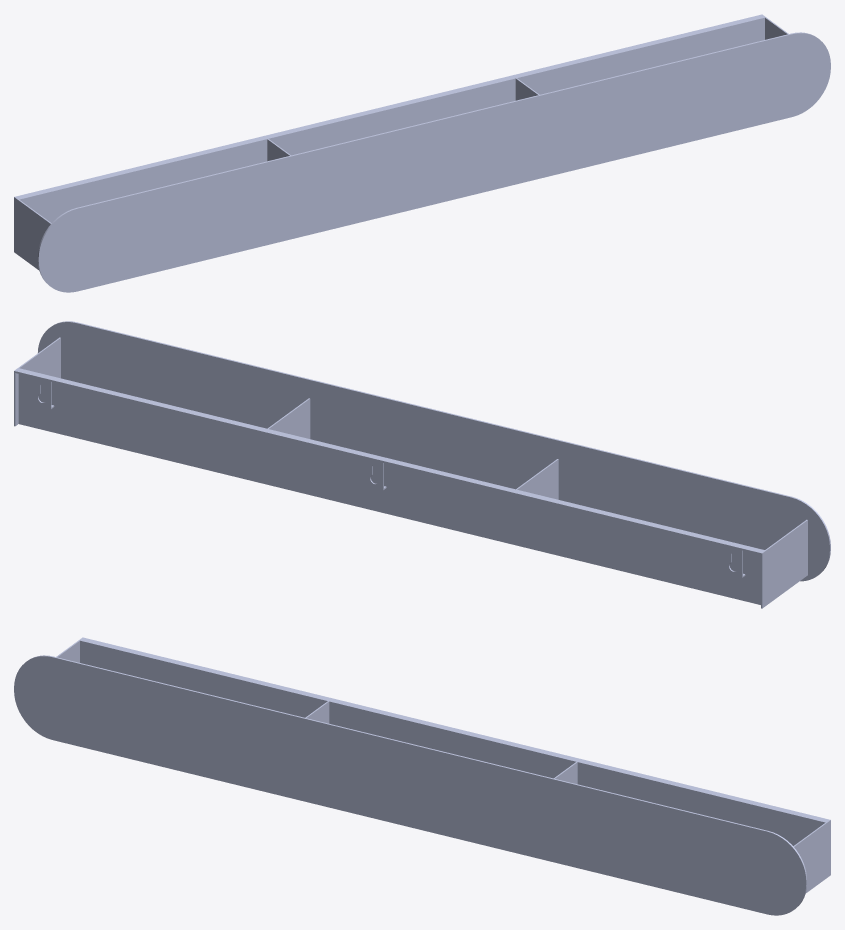
The model's file is round-mono.3a387d5435.glb.
3 views of the same model, one above another, from view 1: azimuth 30°, elevation 25°; view 2: azimuth 150°, elevation 25°; view 3: azimuth 330°, elevation 25° (orthographic).
Parts seen in each view (by area): view 1: NAUO1; view 2: NAUO1; view 3: NAUO1.
Boxes of the visible parts, x1,y1,x2,y2 form: NAUO1: (14, 14, 830, 292); NAUO1: (14, 321, 830, 608); NAUO1: (14, 637, 830, 915).
Bounding box in the file's own units: 0.9 × 0.09 × 0.092.
